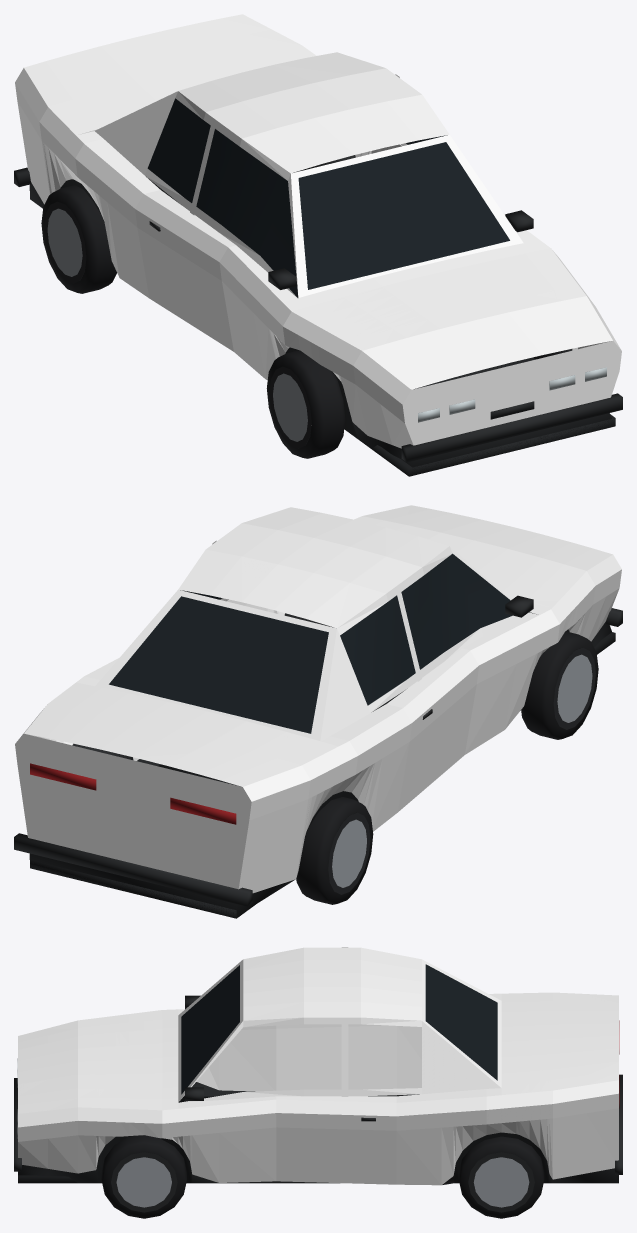
File: lindauer_naco.glb
The picture shows the model from 3 angles, top to bottom: view 1: azimuth 30°, elevation 25°; view 2: azimuth 150°, elevation 25°; view 3: azimuth 270°, elevation 25°; orthographic projection. The views are drawn at different scales.
Parts seen in each view (by area): view 1: Body_Paint, Body_Details, Mount_FrontLeft_Wheel_Details, Mount_RearLeft_Wheel_Details; view 2: Body_Paint, Body_Details, Mount_RearLeft_Wheel_Details, Mount_FrontLeft_Wheel_Details; view 3: Body_Paint, Body_Details, Mount_FrontRight_Wheel_Details, Mount_RearRight_Wheel_Details.
Part boxes in pixels (<box>): Body_Paint: <box>15,14,621,448</box>; Body_Details: <box>14,98,622,476</box>; Mount_FrontLeft_Wheel_Details: <box>266,350,345,458</box>; Mount_RearLeft_Wheel_Details: <box>41,185,116,293</box>; Body_Paint: <box>15,505,621,893</box>; Body_Details: <box>14,553,622,918</box>; Mount_RearLeft_Wheel_Details: <box>296,797,373,904</box>; Mount_FrontLeft_Wheel_Details: <box>521,631,598,739</box>; Body_Paint: <box>18,947,618,1185</box>; Body_Details: <box>14,964,622,1184</box>; Mount_FrontRight_Wheel_Details: <box>101,1135,186,1218</box>; Mount_RearRight_Wheel_Details: <box>458,1136,544,1218</box>.
Size of the model in its own units: 1.76 by 1.39 by 4.12.
2 materials, 1 textured.
